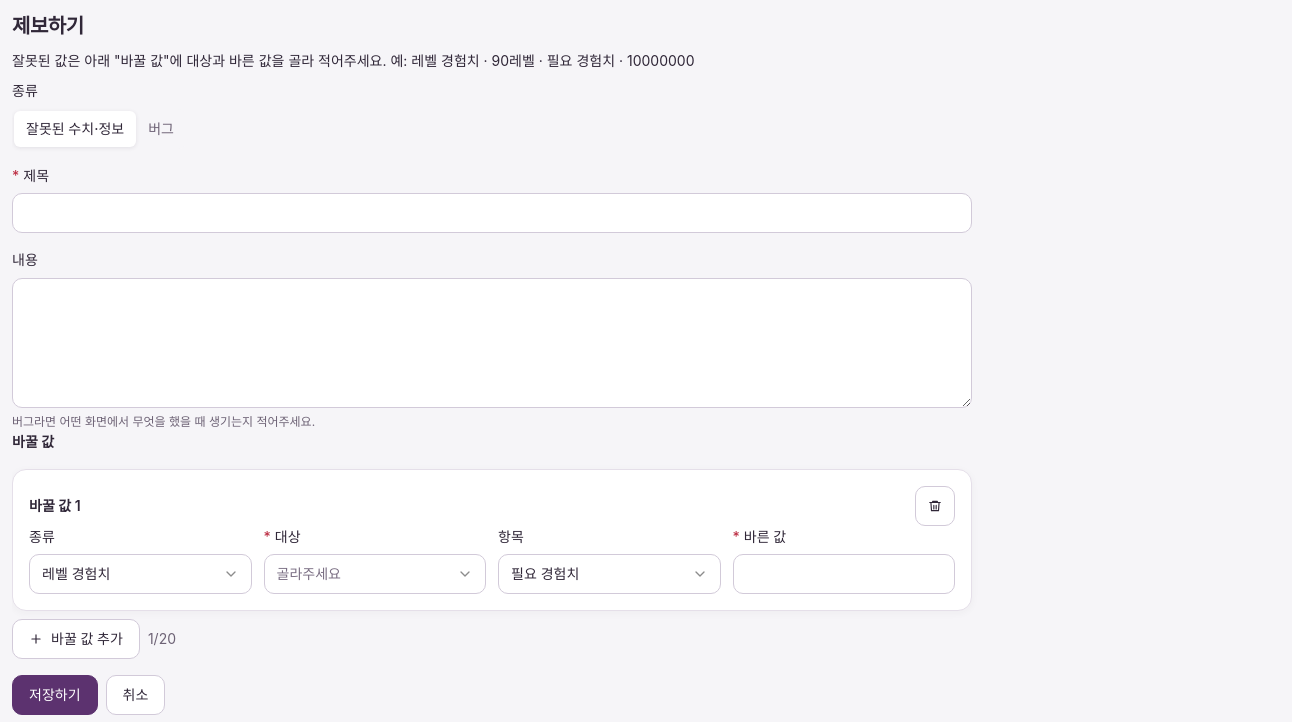
it: ReportFormPage › 빠진 값이 있으면 보내지 않고 안내한다
Click the button "저장하기": (55, 696) top-left (12, 676), bottom-right (98, 716)
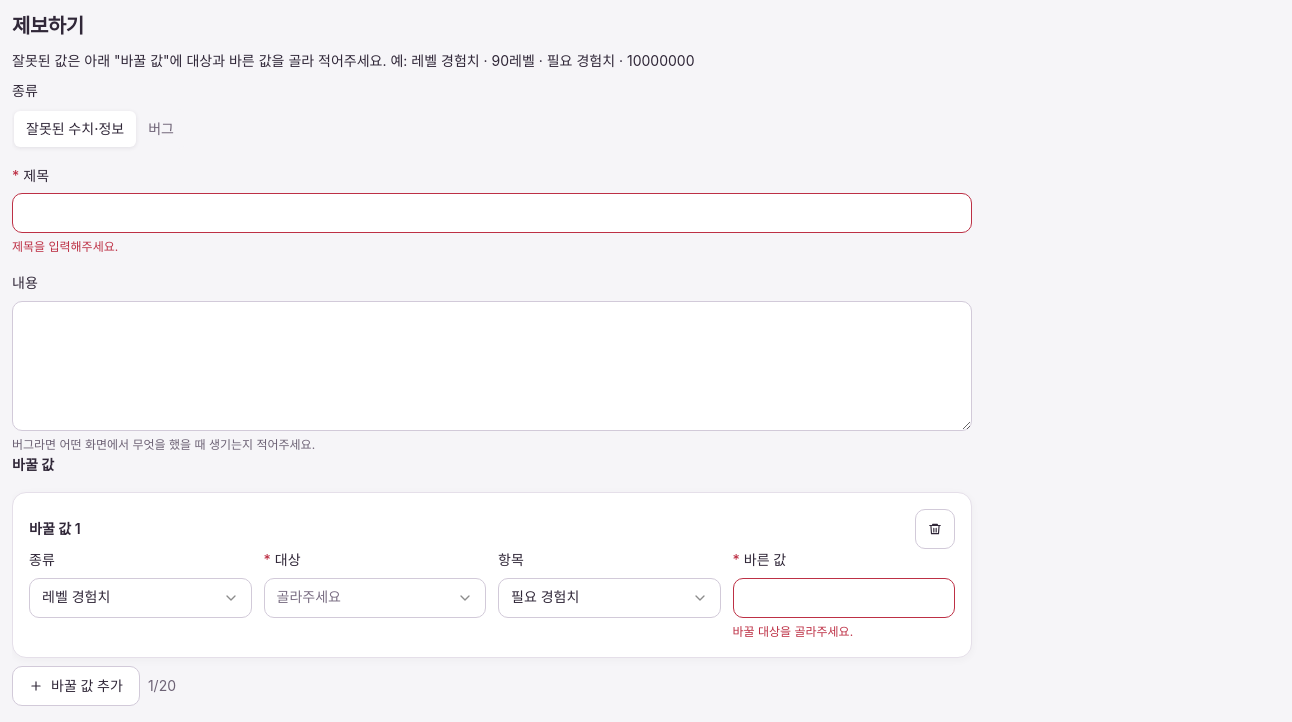
Check: the text "제목을 입력해주세요." is shown, box top-left (12, 239), bottom-right (118, 254)
Check: the text "바꿀 대상을 골라주세요." is shown, box top-left (732, 624), bottom-right (853, 639)
